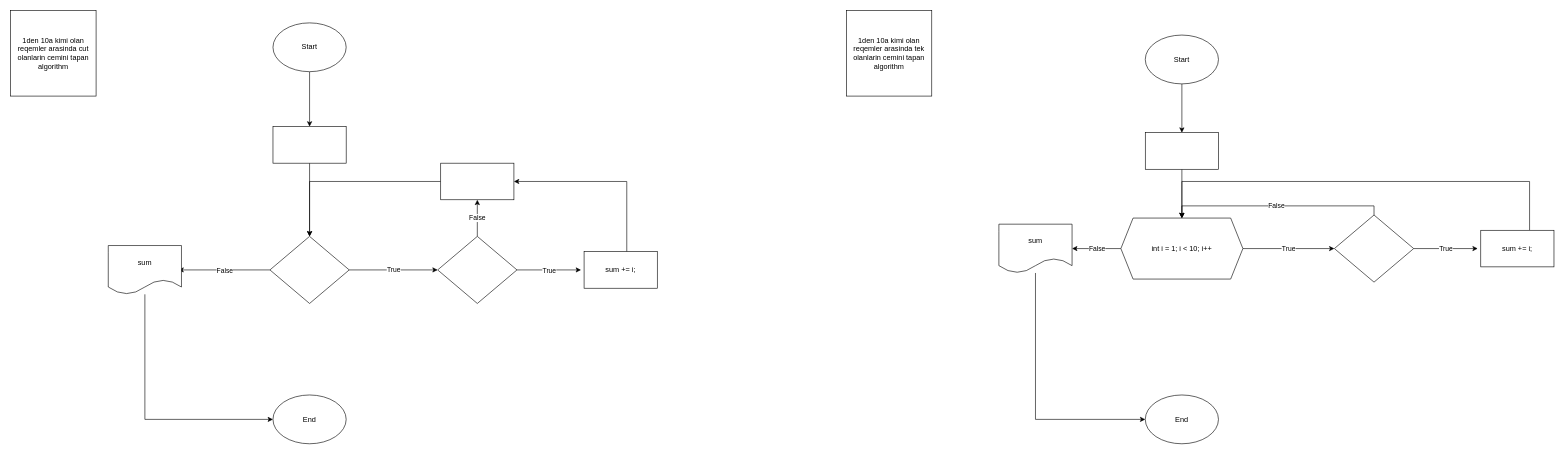
This 1565x454 diagram has some shape labels left out. Here are the shapes that lost their labels. From the top down, the centre of each, then its label:
the point at 309,144: var sum = 0; var i = 1;
the point at 1181,150: int sum = 0;
the point at 477,181: i++;
the point at 1374,248: i %2 == 1
the point at 309,269: i < 10
the point at 477,269: i %2 == 0
